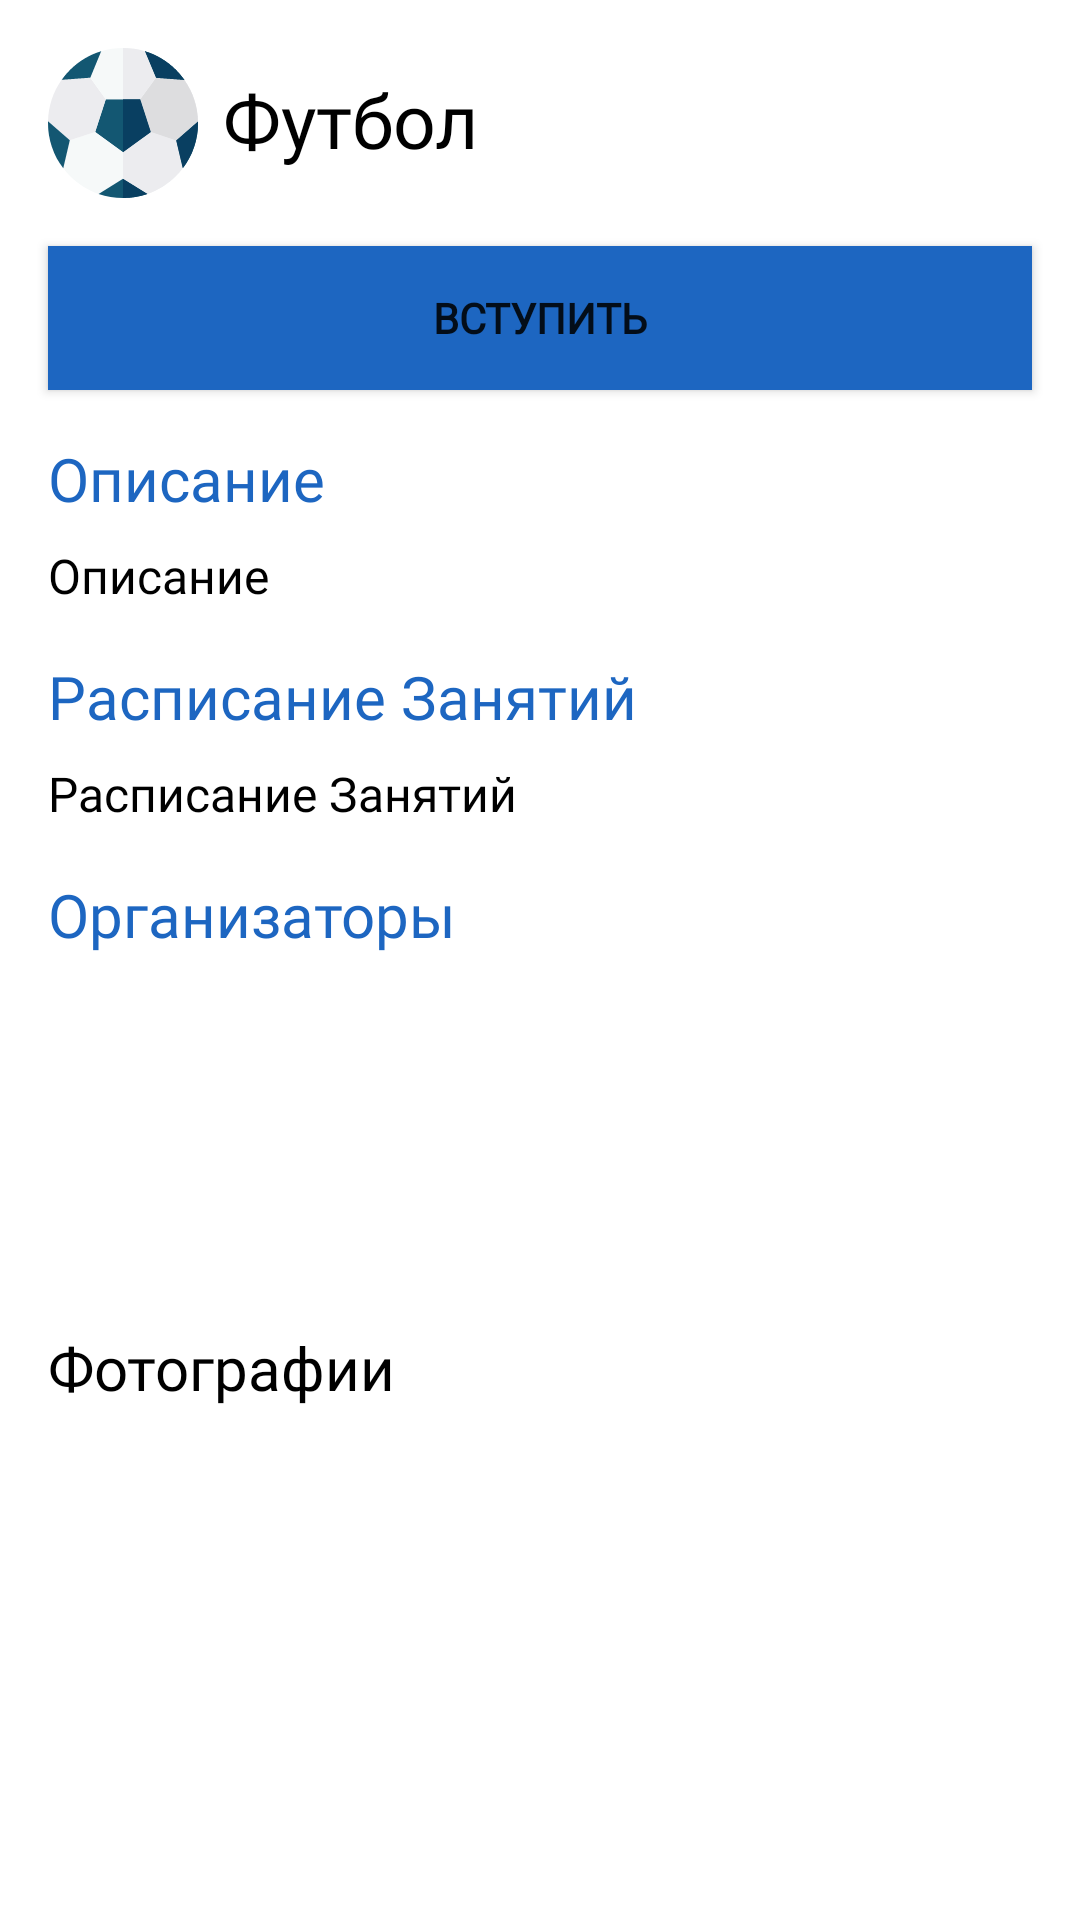

Named icons in this screenshot (1080px x 1920px) and their bounding boxes, {"x1": x1, "y1": y1, "x2": x2, "y2": y2}:
football: {"x1": 48, "y1": 48, "x2": 198, "y2": 198}
